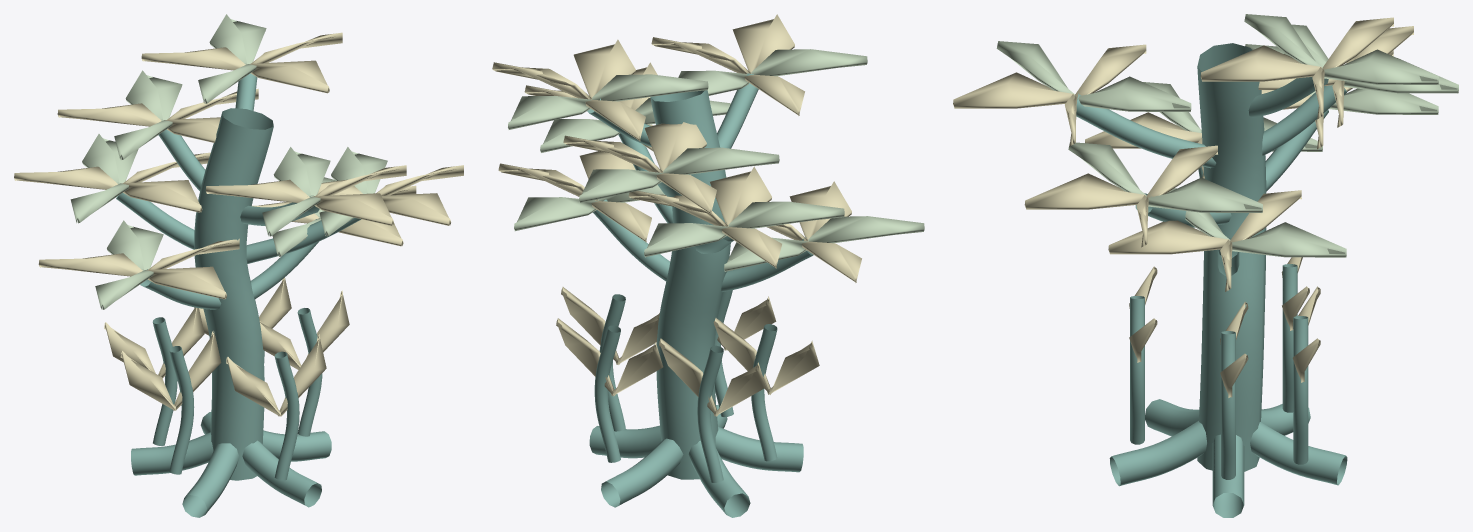
Rendered from bio_canopy_tree_07_near.glb.
3 renders of one model, left to right at view 1: azimuth 30°, elevation 25°; view 2: azimuth 150°, elevation 25°; view 3: azimuth 270°, elevation 25°, orthographic. The views are drawn at different scales.
Parts seen in each view (by area): view 1: Buttressed trunk, Broad canopy leaf.015, Broad canopy leaf.010, Broad canopy leaf.020, Broad canopy leaf.005, Broad canopy leaf.030, Broad canopy leaf.031, Broad canopy leaf.016, Broad canopy leaf.011, Broad canopy leaf.021, Broad canopy leaf.025, Broad canopy leaf.006 (+12 smaller); view 2: Buttressed trunk, Broad canopy leaf.010, Broad canopy leaf.015, Broad canopy leaf.005, Broad canopy leaf.030, Broad canopy leaf.006, Broad canopy leaf.031, Broad canopy leaf.016, Broad canopy leaf.021, Broad canopy leaf.011, Broad canopy leaf, Broad canopy leaf.020 (+13 smaller); view 3: Buttressed trunk, Broad canopy leaf.015, Broad canopy leaf.025, Broad canopy leaf.010, Broad canopy leaf, Broad canopy leaf.016, Broad canopy leaf.026, Broad canopy leaf.011, Broad canopy leaf.001, Broad canopy leaf.006, Branching support.003, Branching support (+10 smaller).
Part boxes in pixels (x1,y1,x2,y2): Buttressed trunk: (116, 73, 361, 517); Broad canopy leaf.015: (141, 32, 342, 93); Broad canopy leaf.010: (205, 165, 406, 225); Broad canopy leaf.020: (38, 238, 239, 299); Broad canopy leaf.005: (14, 152, 210, 212); Broad canopy leaf.030: (57, 88, 258, 142); Broad canopy leaf.031: (114, 70, 182, 159); Broad canopy leaf.016: (198, 14, 266, 103); Broad canopy leaf.011: (262, 147, 330, 236); Broad canopy leaf.021: (95, 220, 163, 309); Broad canopy leaf.025: (317, 165, 463, 225); Broad canopy leaf.006: (70, 134, 138, 223); Buttressed trunk: (587, 73, 813, 517); Broad canopy leaf.010: (651, 14, 804, 115); Broad canopy leaf.015: (492, 39, 645, 141); Broad canopy leaf.005: (628, 166, 781, 268); Broad canopy leaf.030: (563, 122, 716, 214); Broad canopy leaf.006: (644, 201, 844, 257); Broad canopy leaf.031: (579, 147, 779, 203); Broad canopy leaf.016: (508, 74, 708, 129); Broad canopy leaf.021: (724, 216, 924, 271); Broad canopy leaf.011: (678, 49, 867, 95); Broad canopy leaf: (498, 151, 651, 242); Broad canopy leaf.020: (767, 181, 861, 282); Buttressed trunk: (1076, 43, 1347, 517); Broad canopy leaf.015: (1200, 17, 1393, 119); Broad canopy leaf.025: (1024, 145, 1217, 247); Broad canopy leaf.010: (953, 44, 1146, 146); Broad canopy leaf: (1108, 190, 1301, 291); Broad canopy leaf.016: (1244, 14, 1438, 84); Broad canopy leaf.026: (1068, 142, 1262, 212); Broad canopy leaf.011: (996, 41, 1191, 111); Broad canopy leaf.001: (1167, 188, 1346, 257); Broad canopy leaf.006: (1245, 44, 1438, 114); Branching support.003: (1293, 316, 1308, 464); Branching support: (1221, 331, 1235, 479).
Bounding box in the file's own units: 2.97 × 2.99 × 3.05.
